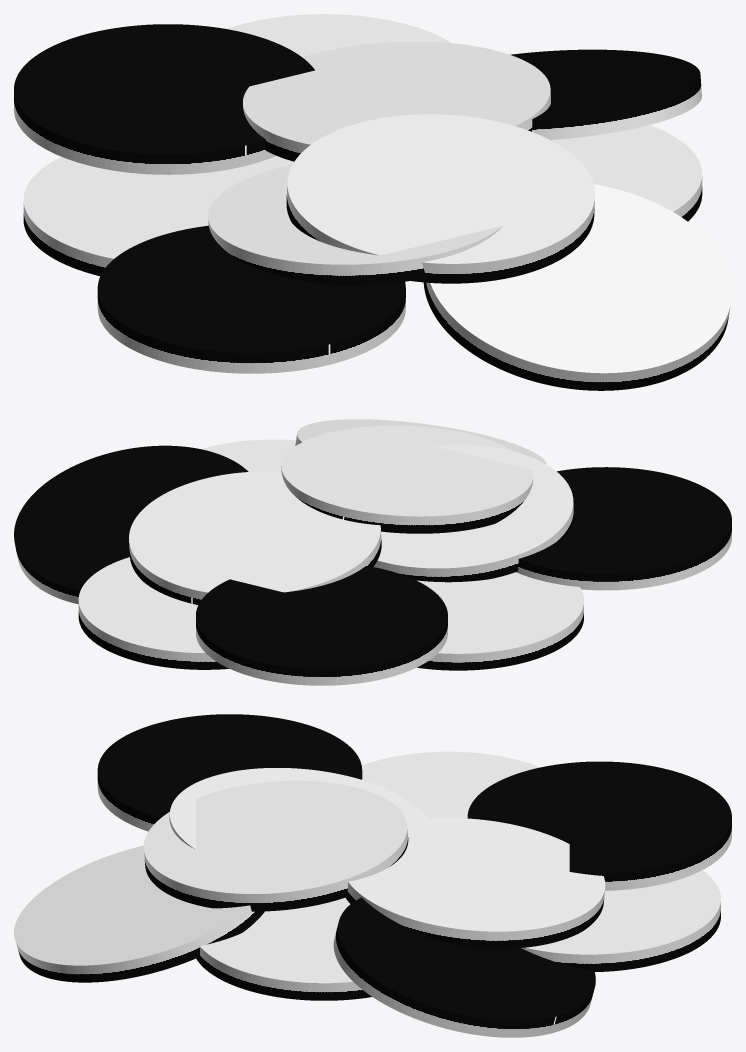
Rendered from chesses.fbx.
3 renders of one model, top to bottom at view 1: azimuth 30°, elevation 25°; view 2: azimuth 150°, elevation 25°; view 3: azimuth 270°, elevation 25°, orthographic. The views are drawn at different scales.
Visible parts, largest first — view 1: chess.008; view 2: chess.008; view 3: chess.008.
Part boxes in pixels (x1,y1,x2,y2): chess.008: [14, 14, 731, 390]; chess.008: [14, 419, 731, 685]; chess.008: [14, 714, 731, 1037].
Size of the model in its own units: 259 by 39.91 by 269.
1 material, 1 textured.
